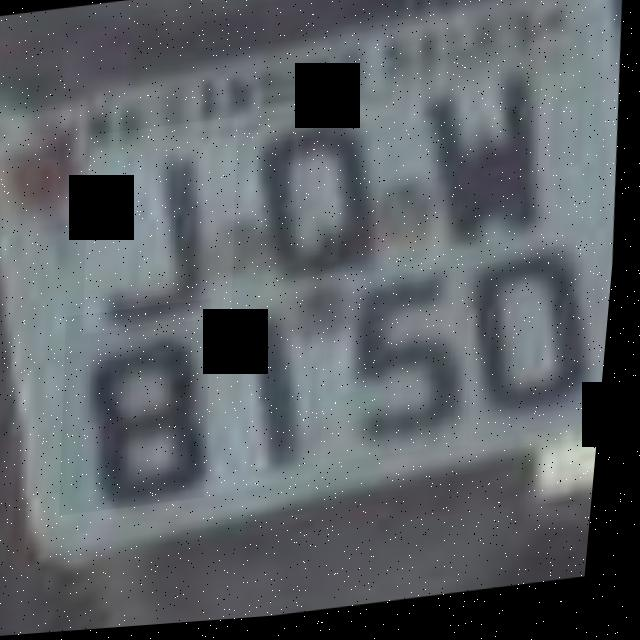0: (449, 258, 619, 459)
1: (214, 282, 333, 500)
5: (320, 277, 487, 469)
8: (58, 302, 228, 518)
J: (79, 121, 251, 337)
W: (420, 82, 571, 284)
